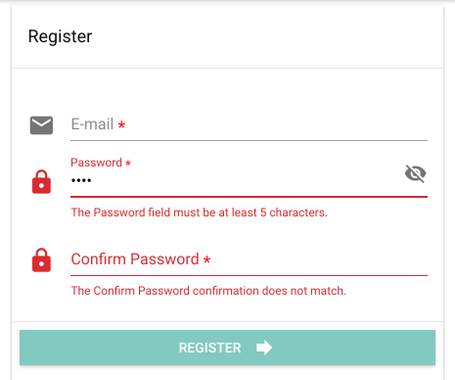error_field: (68, 249, 429, 278), (69, 172, 428, 199)
error_message: (70, 283, 347, 297), (70, 205, 328, 219), (70, 155, 123, 168)
